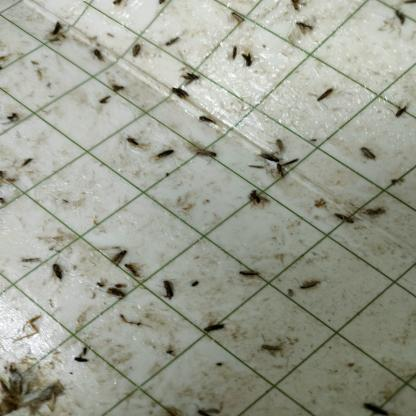prays_oleae: (192, 143, 220, 173), (297, 270, 322, 298), (247, 183, 270, 212), (334, 209, 356, 235), (393, 96, 415, 122), (127, 36, 148, 63), (314, 82, 334, 110), (259, 335, 281, 360), (155, 139, 175, 165), (165, 29, 182, 58), (203, 318, 224, 341), (242, 260, 260, 286), (124, 132, 143, 156), (90, 35, 103, 70), (51, 256, 67, 284), (292, 16, 312, 38), (105, 284, 129, 302), (364, 202, 384, 222), (195, 110, 218, 127), (111, 246, 126, 272), (182, 71, 198, 94), (262, 149, 282, 166), (126, 259, 140, 283), (228, 35, 238, 68), (243, 44, 254, 74), (95, 92, 113, 109), (362, 137, 374, 162), (270, 136, 286, 154), (361, 401, 392, 410), (168, 89, 191, 101), (110, 76, 122, 98), (282, 156, 302, 169), (393, 8, 406, 28), (52, 22, 64, 42), (288, 3, 306, 14), (274, 163, 285, 179)
